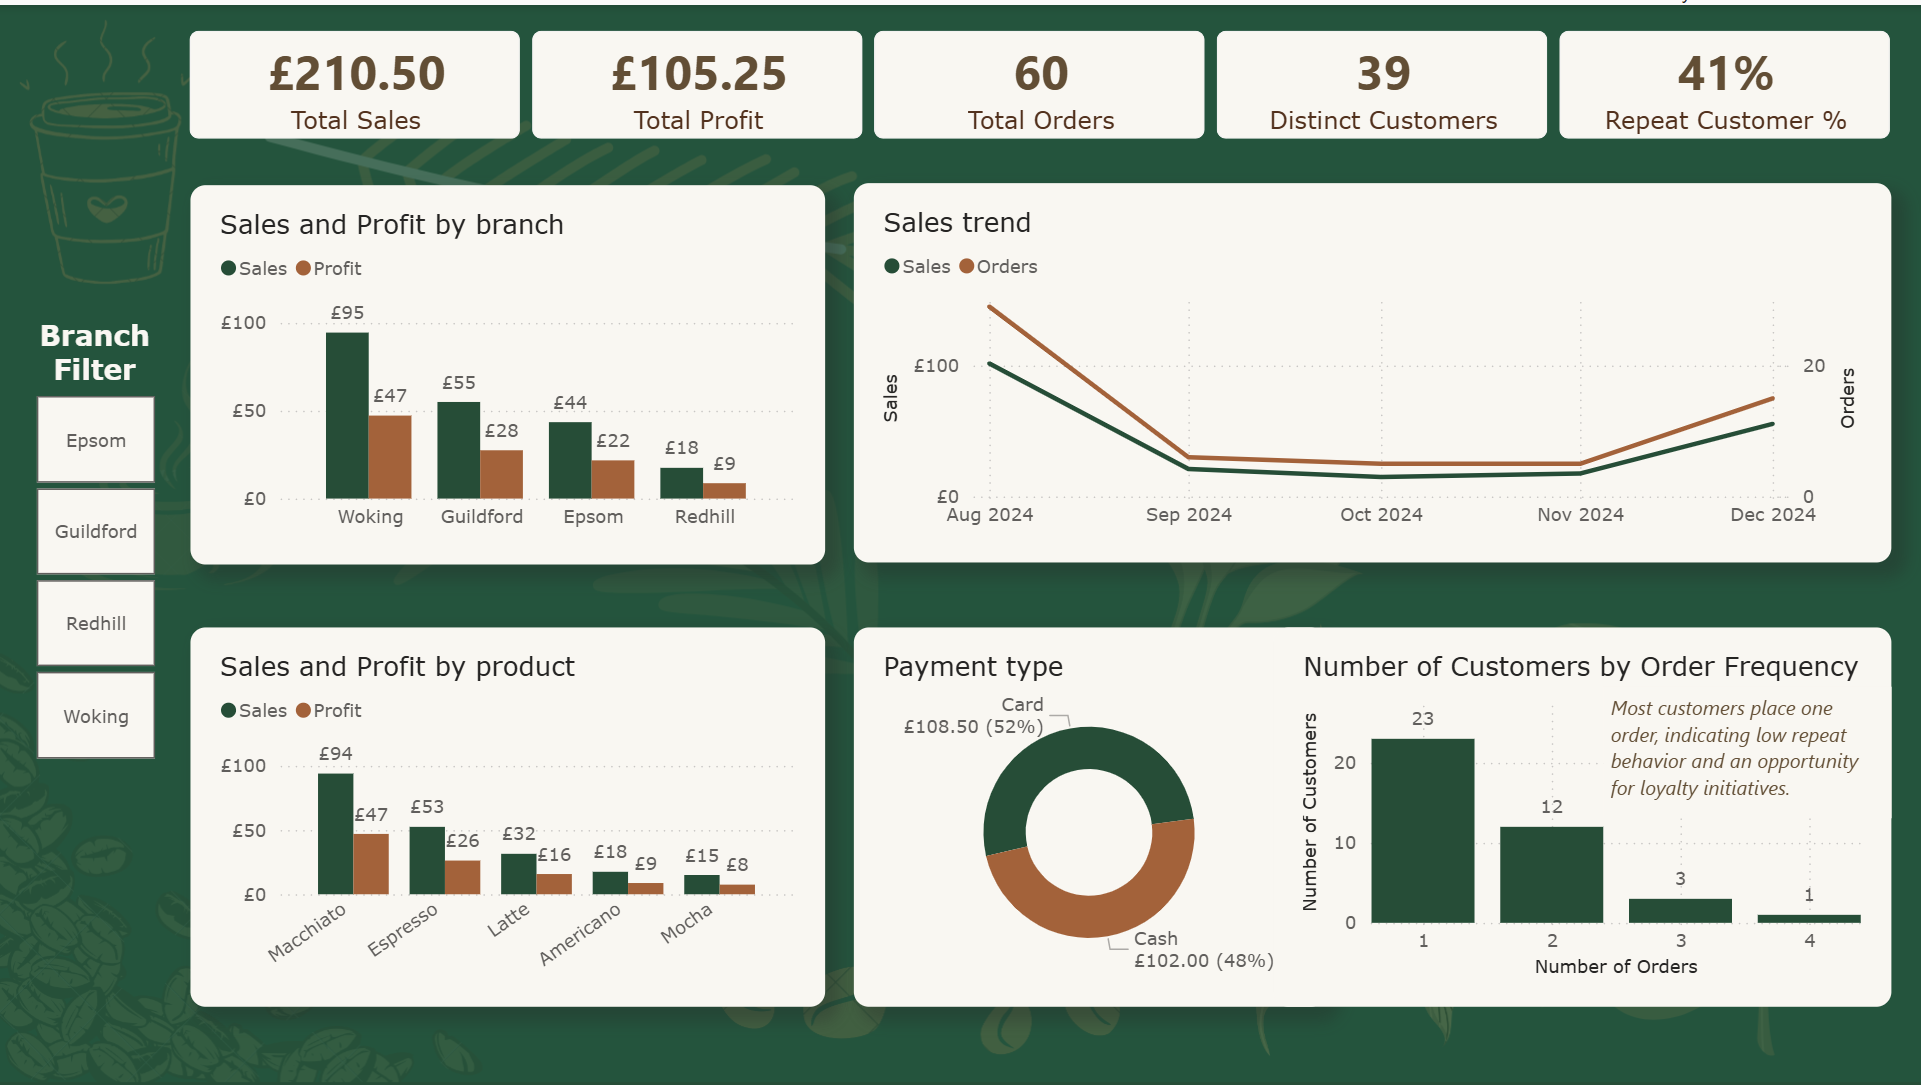

The dashboard page shown, as its layout file describes it:
{"tool":"powerbi","page":{"name":"Page 1","canvas":[1280,720],"ordinal":0},"visuals":[{"type":"cardVisual","fields":{"Data":["cafe-clean.Total Sales","cafe-clean.Total Profit","cafe-clean.Total Orders","cafe-clean.Distinct Customers","cafe-clean.Repeat Customer %"]},"box":[110.4,0,1166.7,106.3],"z":0},{"type":"clusteredColumnChart","title":"Sales and Profit by branch","fields":{"Category":["cafe-clean.branch"],"Y":["Sum(cafe-clean.sales)","Sum(cafe-clean.profit)"]},"box":[128.7,119.3,422.3,252.7],"z":1000},{"type":"lineChart","title":"Sales trend","fields":{"Y":["Sum(cafe-clean.sales)"],"Category":["cafe-clean.date.Variation.Date Hierarchy.Year","cafe-clean.date.Variation.Date Hierarchy.Month","cafe-clean.date.Variation.Date Hierarchy.Day"],"Y2":["cafe-clean.Total Orders"]},"box":[569.8,118.9,690.7,252.7],"z":2000},{"type":"clusteredColumnChart","title":"Sales and Profit by product","fields":{"Category":["cafe-clean.product"],"Y":["Sum(cafe-clean.sales)","Sum(cafe-clean.profit)"]},"box":[128.7,414.4,422.3,252.7],"z":3000},{"type":"donutChart","title":"Payment type","fields":{"Category":["cafe-clean.payment_type"],"Y":["Sum(cafe-clean.sales)"]},"box":[569.8,414,314,252.7],"z":4000},{"type":"clusteredColumnChart","title":"Number of Customers by Order Frequency","fields":{"Category":["cafe-clean.Orders per Customer"],"Y":["Count(cafe-clean.customer)"]},"box":[849.3,414.4,411.3,252.7],"z":5000},{"type":"slicer","title":"Branch Filter","fields":{"Values":["cafe-clean.branch"]},"box":[0,208.8,128.7,299.8],"z":6000},{"type":"textbox","box":[1068.5,453.8,192.2,87.2],"z":7000}]}

Visuals, with their boxes in screenshot pixels (x1, y1, x2, y2), scaled from the page's 1280x720 canvas onto the 1921x1085 screenshot:
cardVisual - cafe-clean.Total Sales x cafe-clean.Total Profit: x1=166 y1=0 x2=1917 y2=160
"Sales and Profit by branch" clusteredColumnChart: x1=193 y1=180 x2=827 y2=561
"Sales trend" lineChart: x1=855 y1=179 x2=1892 y2=560
"Sales and Profit by product" clusteredColumnChart: x1=193 y1=624 x2=827 y2=1005
"Payment type" donutChart: x1=855 y1=624 x2=1326 y2=1005
"Number of Customers by Order Frequency" clusteredColumnChart: x1=1275 y1=624 x2=1892 y2=1005
"Branch Filter" slicer: x1=0 y1=315 x2=193 y2=766
textbox: x1=1604 y1=684 x2=1892 y2=815
